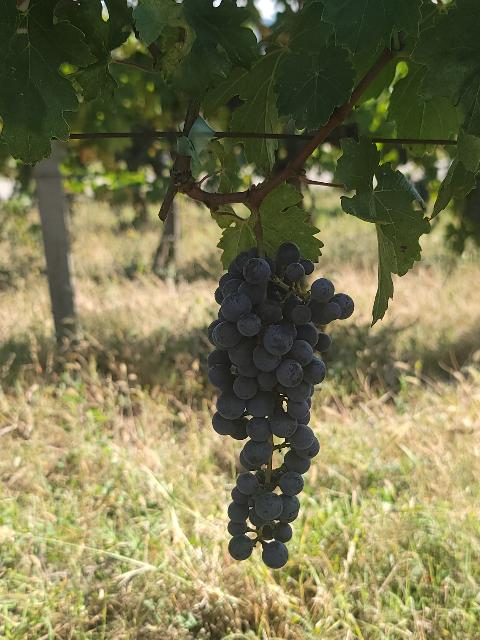grapes: (208, 242, 354, 569)
